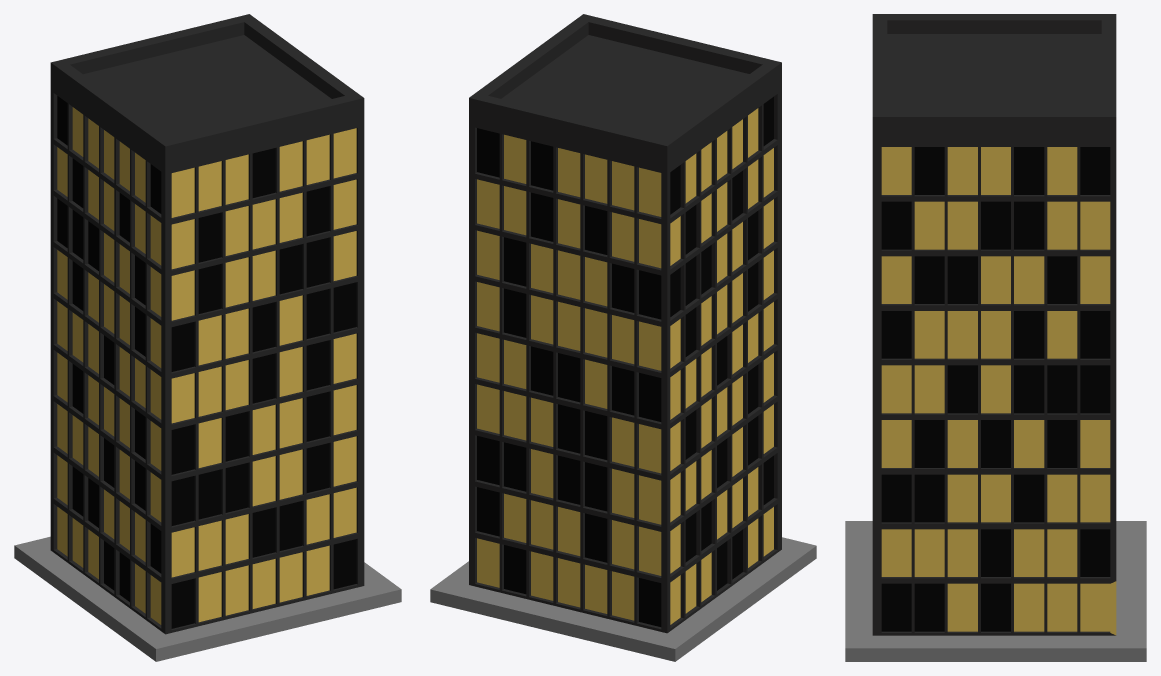
File: ShopTier3.fbx
3 renders of one model, left to right at view 1: azimuth 30°, elevation 25°; view 2: azimuth 150°, elevation 25°; view 3: azimuth 270°, elevation 25°, orthographic. The views are drawn at different scales.
Visible parts, largest first — view 1: Cube.008; view 2: Cube.008; view 3: Cube.008.
Part boxes in pixels (box(x1,y1,x2,y2)): Cube.008: box(14, 14, 401, 661); Cube.008: box(430, 14, 816, 661); Cube.008: box(845, 14, 1146, 661).
Size of the model in its own units: 2000 by 3900 by 2000.
